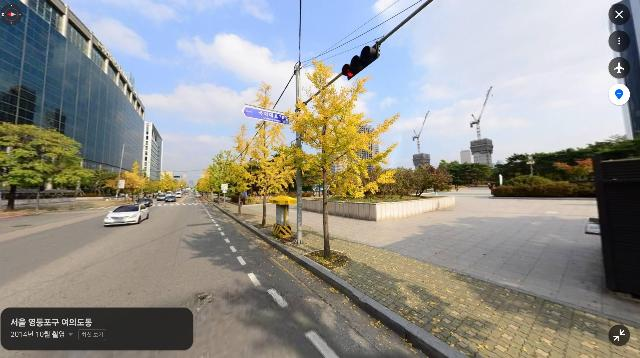ginkgo: (286, 57, 401, 260), (231, 81, 297, 229), (210, 149, 255, 216), (119, 160, 152, 205), (153, 171, 175, 200), (196, 170, 213, 204)
other: (0, 122, 87, 213), (498, 151, 544, 183), (569, 141, 611, 175), (541, 147, 581, 180), (457, 161, 487, 188), (435, 159, 461, 189)
